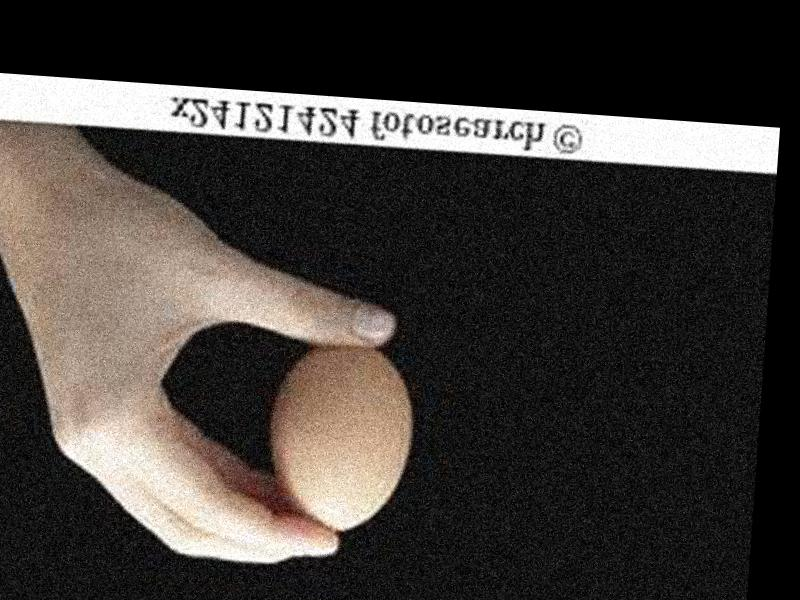Eggs: (264, 340, 416, 541)
